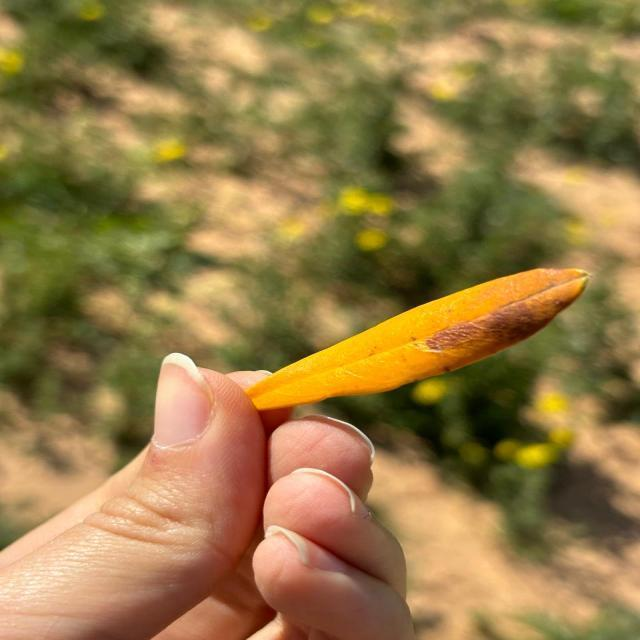OlivePeacockSpot: (244, 268, 588, 412)
